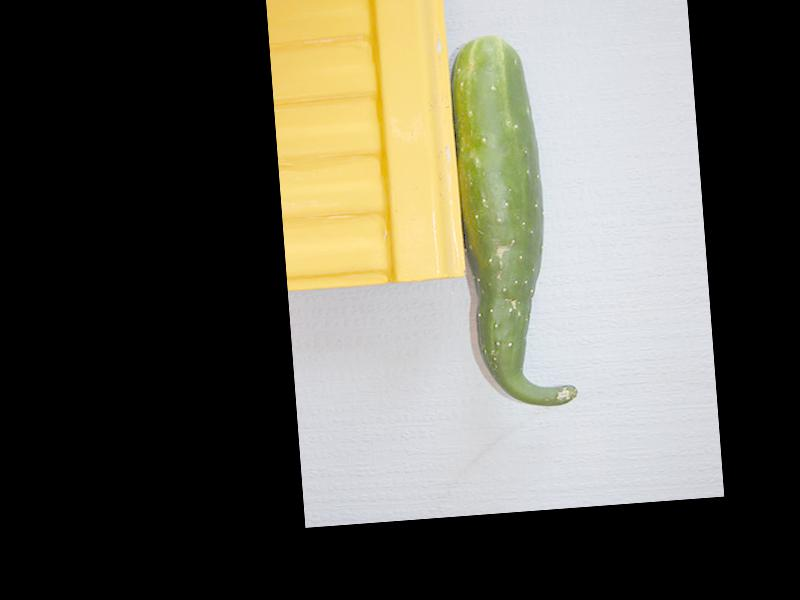Cucumber: (447, 33, 579, 413)
